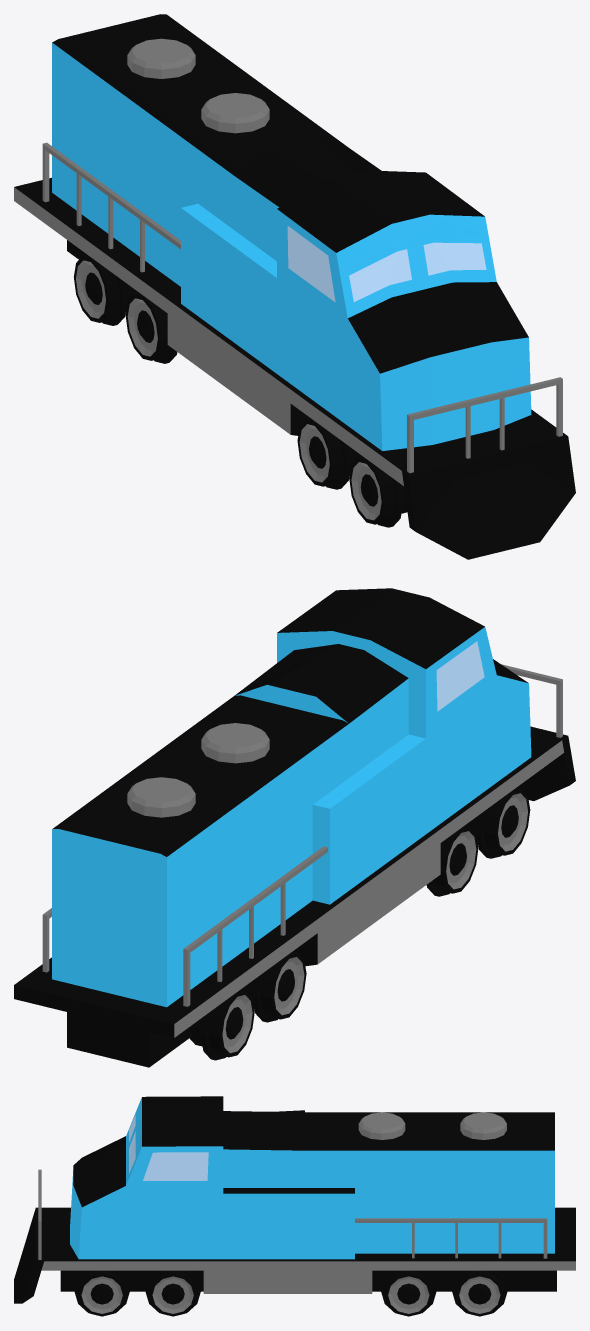
File: transportRail-train-blue.glb
The picture shows the model from 3 angles, top to bottom: view 1: azimuth 30°, elevation 25°; view 2: azimuth 150°, elevation 25°; view 3: azimuth 270°, elevation 25°; orthographic projection. The views are drawn at different scales.
Parts seen in each view (by area): view 1: node-0; view 2: node-0; view 3: node-0.
Part boxes in pixels (bbox=[...]): node-0: bbox=[14, 14, 575, 559]; node-0: bbox=[14, 588, 575, 1067]; node-0: bbox=[14, 1096, 575, 1316].
Size of the model in its own units: 25.96 by 41.87 by 115.
Materials: 1 (1 with a texture image).
